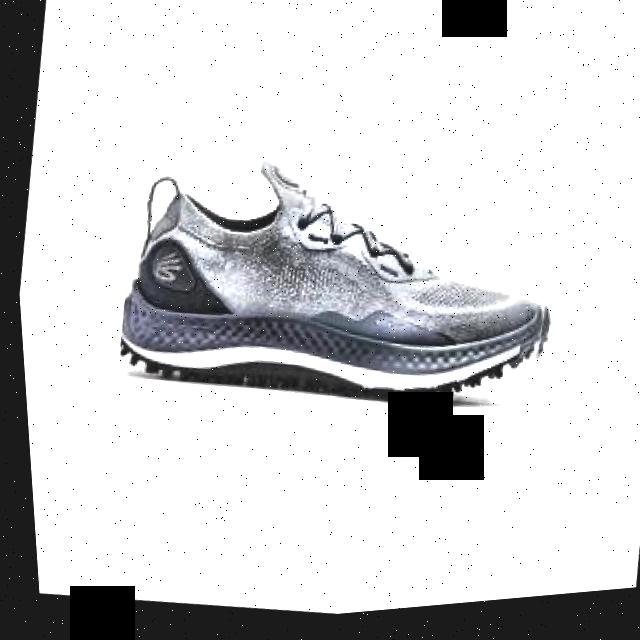shoe: (101, 125, 572, 447)
